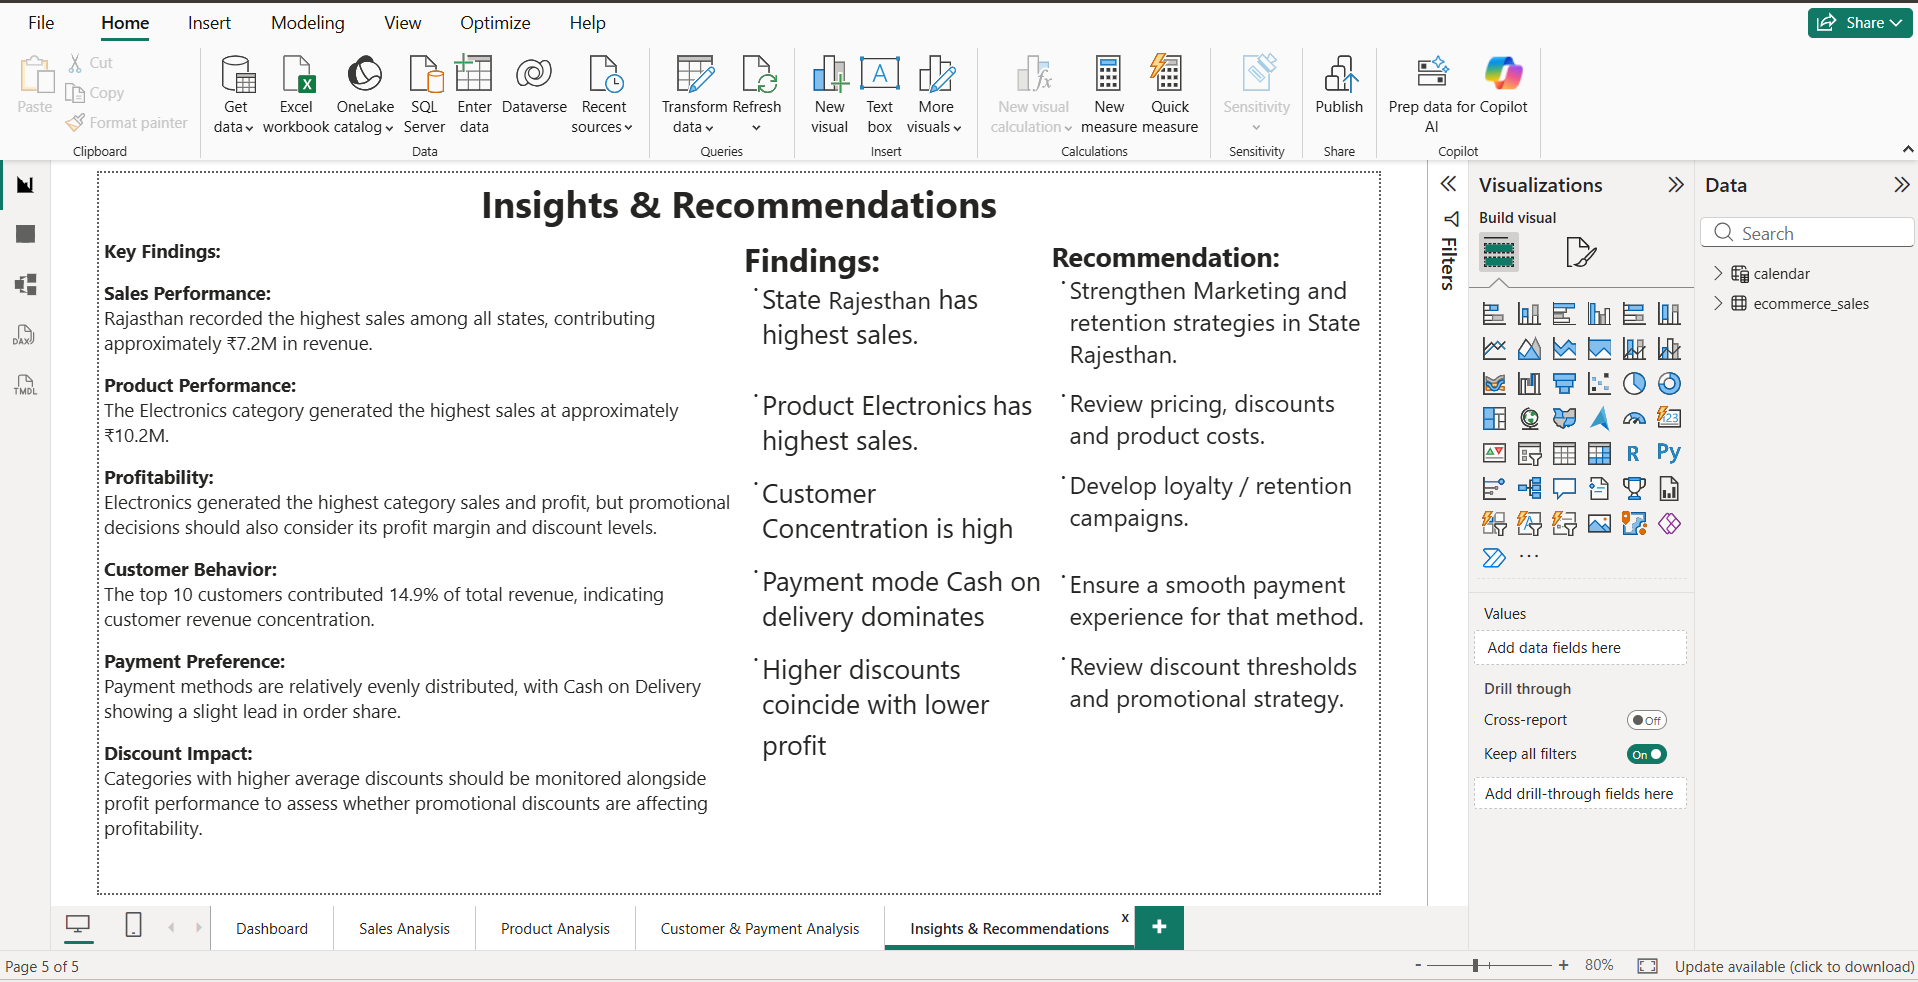

The page's visual inventory and layout, read from the dashboard file:
{"tool":"powerbi","page":{"name":"Insights & Recommendations","canvas":[1280,720],"ordinal":4},"visuals":[{"type":"textbox","box":[0,0,1280,60],"z":0},{"type":"textbox","box":[0,60,640,660],"z":1000},{"type":"textbox","box":[640,60,307.5,660],"z":2000},{"type":"textbox","box":[947.5,60,332.5,660],"z":3000}]}

Visuals, with their boxes on the page's 1280x720 design canvas (x1, y1, x2, y2). These are canvas units, not pixel positions in the 1918x982 screenshot, which may show the page scaled, cropped or inside an application window:
textbox: [0,0,1280,60]
textbox: [0,60,640,720]
textbox: [640,60,948,720]
textbox: [948,60,1280,720]
